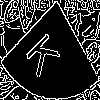K: (24, 25, 66, 80)
